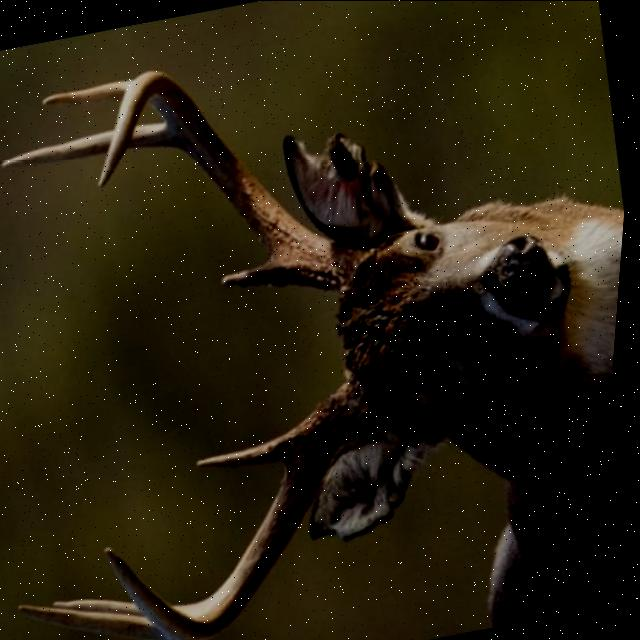L-F: (100, 68, 370, 291)
L-G1: (226, 257, 293, 286)
R-F: (112, 380, 386, 640)
R-G1: (201, 430, 296, 467)
